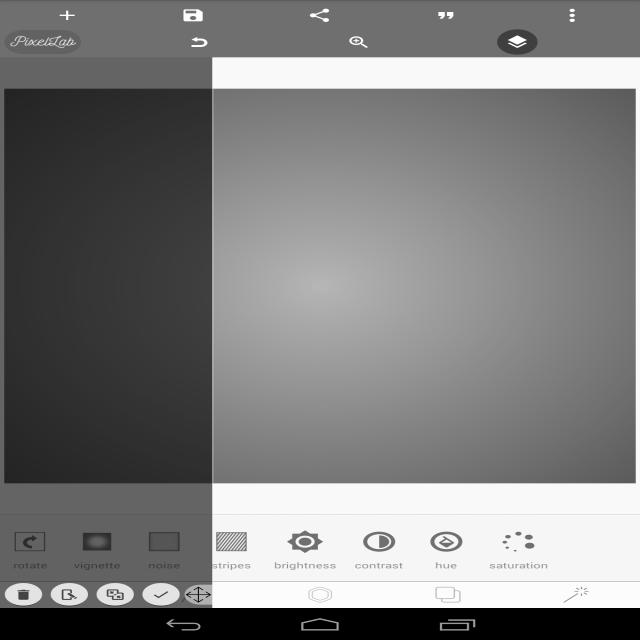ImageButton: (3, 525, 57, 558), (70, 525, 124, 558), (278, 525, 332, 558), (352, 525, 406, 558), (138, 525, 191, 558), (205, 525, 258, 558), (420, 525, 473, 558), (492, 525, 545, 558), (43, 581, 85, 608), (171, 581, 213, 608), (299, 581, 341, 608), (427, 581, 469, 608), (555, 581, 597, 608), (179, 29, 220, 55), (497, 29, 538, 55), (318, 29, 358, 55), (299, 3, 340, 28), (552, 3, 593, 28), (47, 3, 87, 28), (173, 3, 213, 28), (426, 3, 466, 28), (96, 583, 134, 606), (142, 583, 180, 606), (5, 583, 42, 606), (51, 583, 88, 606), (185, 584, 212, 604)
ImageView: (4, 30, 81, 54)
TextView: (272, 560, 339, 570), (487, 560, 550, 570), (352, 560, 406, 570), (72, 560, 122, 570), (209, 560, 253, 570), (11, 560, 49, 570), (146, 560, 183, 570), (433, 560, 459, 570)
